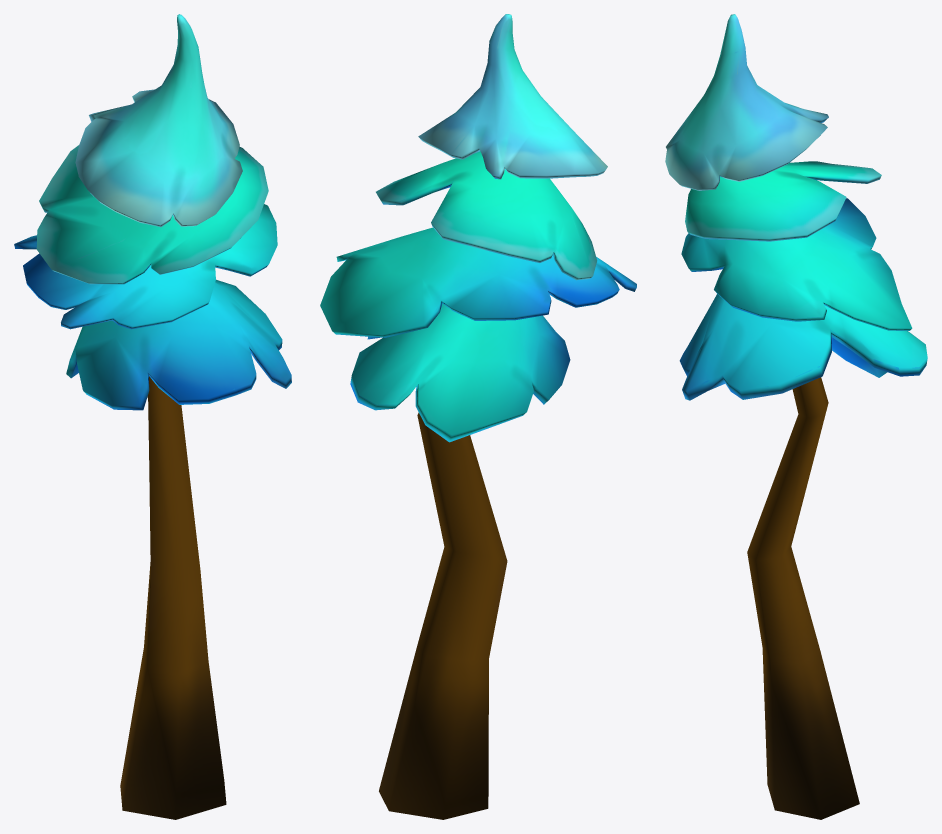
The model's file is TreeStyle2Blue_10.fbx.
3 renders of one model, left to right at view 1: azimuth 30°, elevation 25°; view 2: azimuth 150°, elevation 25°; view 3: azimuth 270°, elevation 25°, orthographic. The views are drawn at different scales.
Parts seen in each view (by area): view 1: TreeStyle2_10; view 2: TreeStyle2_10; view 3: TreeStyle2_10.
Boxes of the visible parts, x1,y1,x2,y2 form: TreeStyle2_10: (14,14,291,819); TreeStyle2_10: (320,14,636,819); TreeStyle2_10: (665,14,927,819).
Size of the model in its own units: 442 by 1313 by 409.
